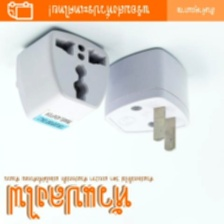three_eye_plug: (11, 23, 121, 137), (98, 41, 195, 156)
